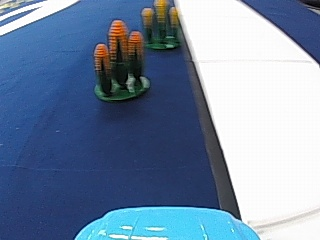corn: (91, 22, 148, 102), (141, 2, 180, 50)
